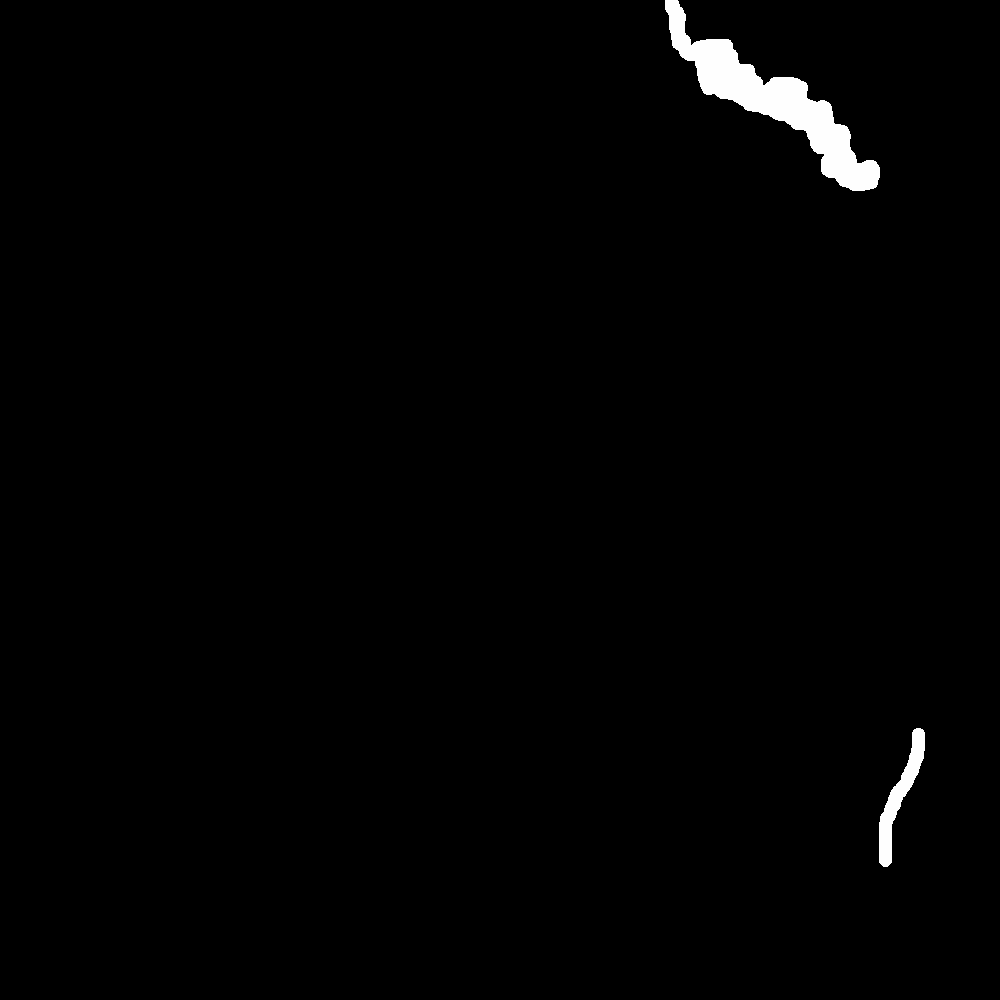illegal: (657, 1, 879, 194), (887, 735, 919, 814)
